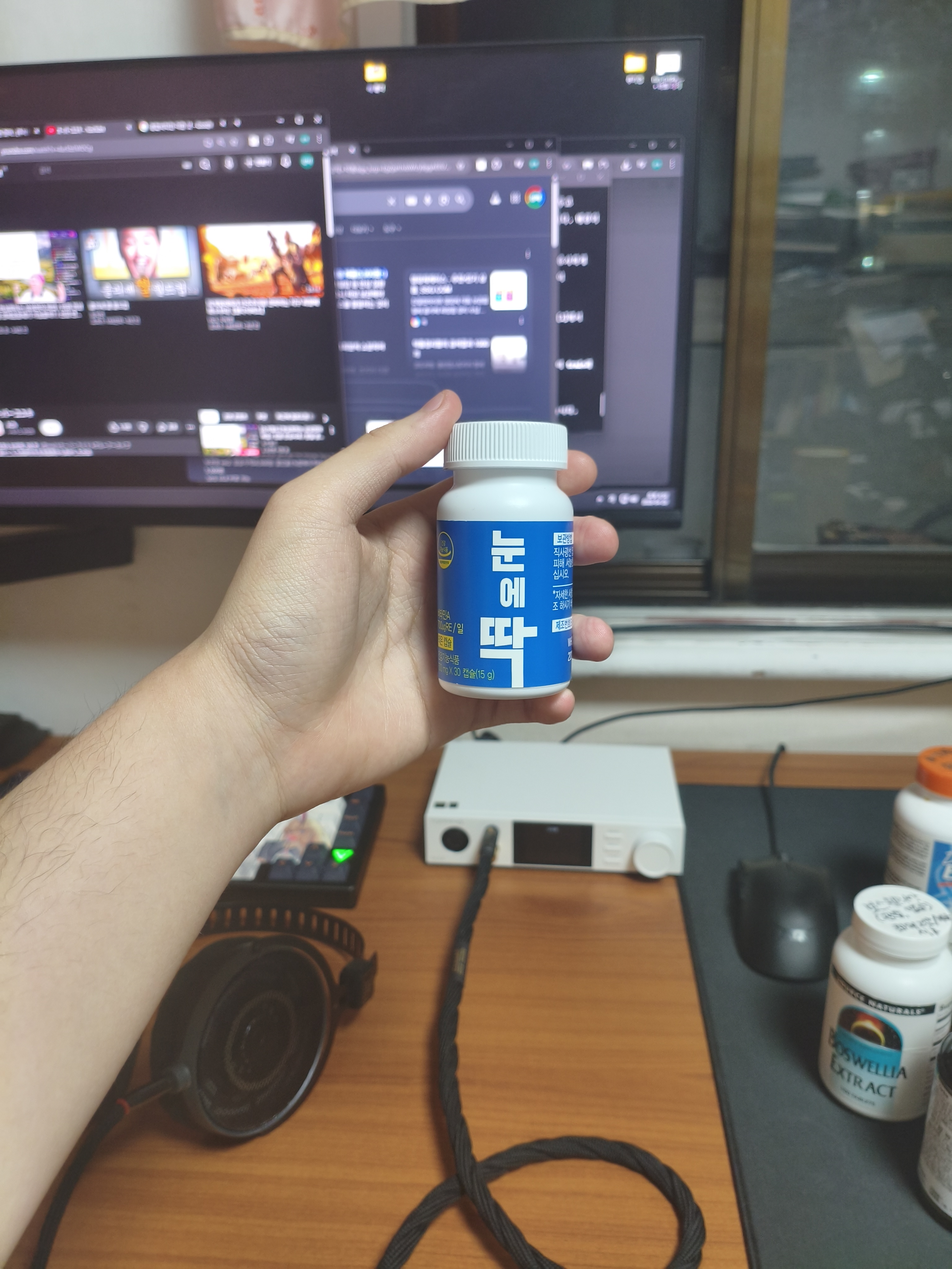supplement_label: (425, 504, 585, 702)
